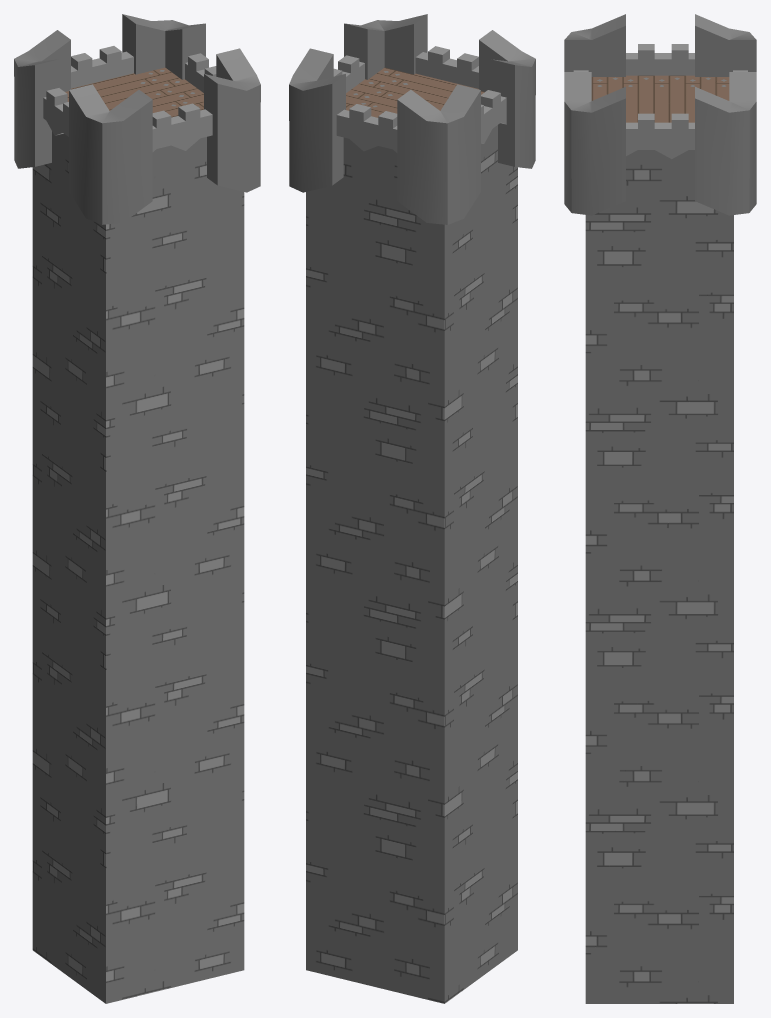
File: rookSquare.gltf
3 renders of one model, left to right at view 1: azimuth 30°, elevation 25°; view 2: azimuth 150°, elevation 25°; view 3: azimuth 270°, elevation 25°, orthographic.
Parts seen in each view (by area): view 1: rookSquare; view 2: rookSquare; view 3: rookSquare.
Part boxes in pixels (bbox=[...]): rookSquare: bbox=[14, 14, 260, 1003]; rookSquare: bbox=[289, 14, 535, 1003]; rookSquare: bbox=[564, 14, 756, 1003].
Size of the model in its own units: 6.29 by 31.76 by 6.07.
Materials: 4 (2 with a texture image).
